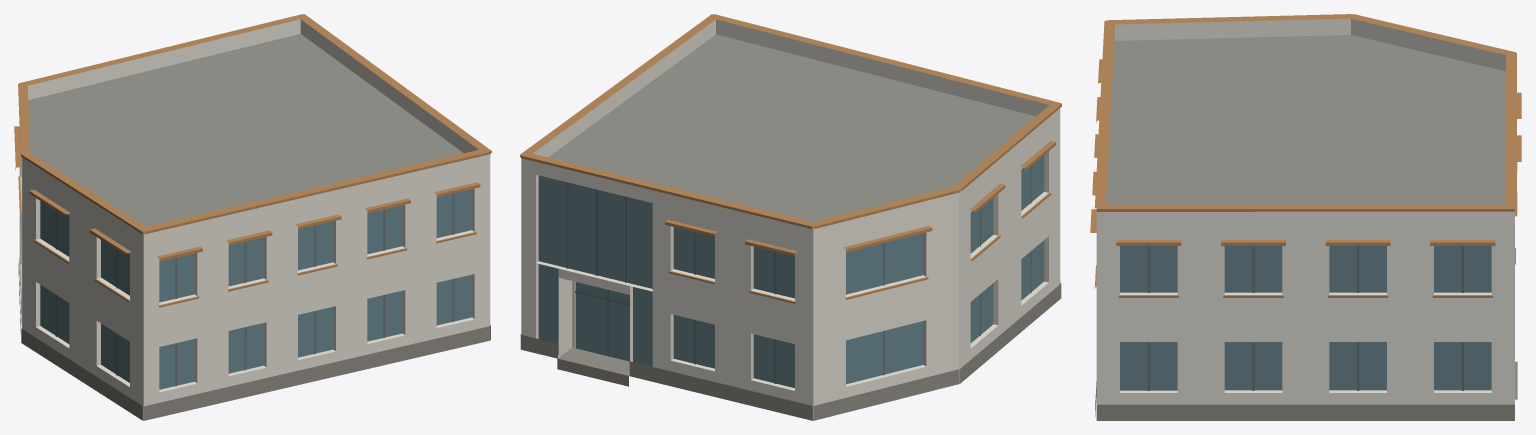
The picture shows the model from 3 angles, left to right: view 1: azimuth 30°, elevation 25°; view 2: azimuth 150°, elevation 25°; view 3: azimuth 270°, elevation 25°; orthographic projection. The views are drawn at different scales.
Visible parts, largest first — view 1: gyesanA__wall, gyesanA__roof, gyesanA__glass, gyesanA__parapet, gyesanA__trim, gyesanA__base, gyesanA__frame; view 2: gyesanA__wall, gyesanA__roof, gyesanA__glass, gyesanA__parapet, gyesanA__trim, gyesanA__base, gyesanA__frame; view 3: gyesanA__roof, gyesanA__wall, gyesanA__glass, gyesanA__parapet, gyesanA__trim, gyesanA__base, gyesanA__frame.
Boxes of the visible parts, x1,y1,x2,y2 form: gyesanA__wall: (19, 157, 490, 420); gyesanA__roof: (20, 34, 463, 420); gyesanA__glass: (40, 189, 471, 389); gyesanA__parapet: (22, 19, 490, 245); gyesanA__trim: (14, 14, 491, 307); gyesanA__base: (18, 258, 490, 420); gyesanA__frame: (55, 193, 454, 386); gyesanA__wall: (521, 119, 1060, 420); gyesanA__roof: (548, 34, 1035, 420); gyesanA__glass: (538, 155, 1044, 387); gyesanA__parapet: (521, 19, 1060, 240); gyesanA__trim: (520, 14, 1061, 303); gyesanA__base: (520, 282, 1061, 420); gyesanA__frame: (566, 166, 1031, 383); gyesanA__roof: (1106, 35, 1505, 204); gyesanA__wall: (1096, 224, 1514, 404); gyesanA__glass: (1120, 246, 1491, 390); gyesanA__parapet: (1096, 18, 1514, 224); gyesanA__trim: (1090, 14, 1521, 297); gyesanA__base: (1095, 248, 1517, 420); gyesanA__frame: (1147, 246, 1463, 390).
Bounding box in the file's own units: 15.66 × 8.2 × 14.38.
